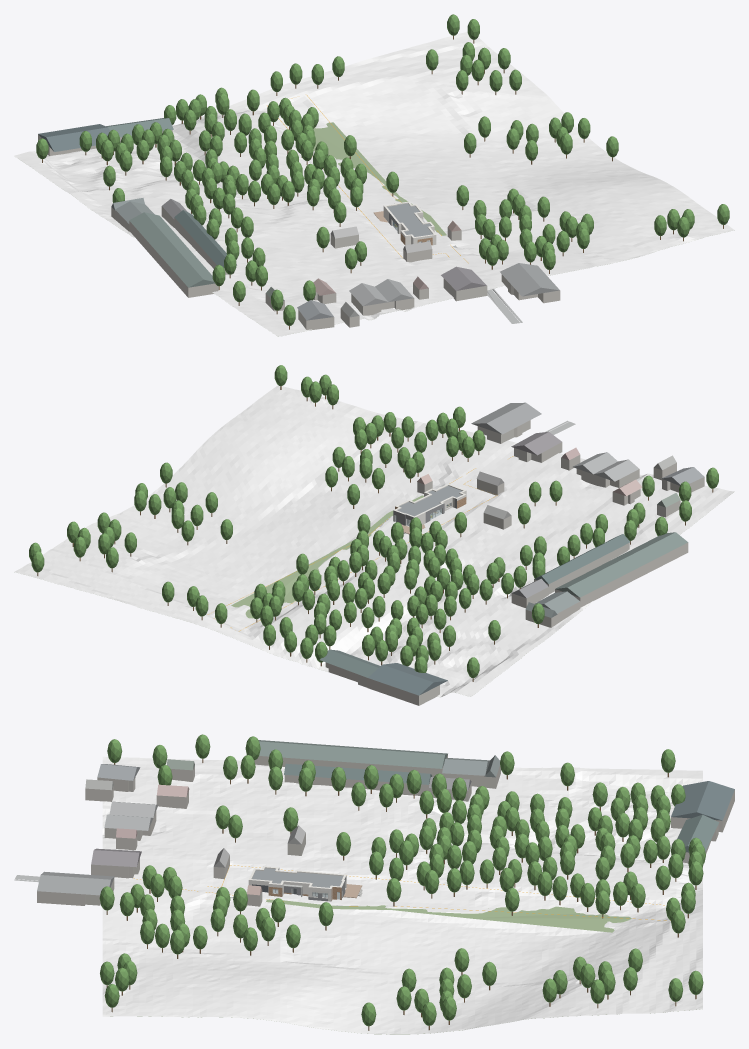
Rendered from dom_bryla.glb.
The picture shows the model from 3 angles, top to bottom: view 1: azimuth 30°, elevation 25°; view 2: azimuth 150°, elevation 25°; view 3: azimuth 270°, elevation 25°; orthographic projection. The views are drawn at different scales.
Parts seen in each view (by area): view 1: GEO_ORTHO_TEXTURED, GEO_DRZEWA_KORONY, GEO_BUDYNEK_DACH_010, TEREN_trawnik_PZT, GEO_BUDYNEK_DACH_014, GEO_BUDYNEK_DACH_018, GEO_BUDYNEK_DACH_005, GEO_BUDYNEK_SCIANY_010, DACH_wypelnienie_BEZ_SPADKOW, GEO_BUDYNEK_DACH_008, GEO_DRZEWA_PNIE, GEO_BUDYNEK_DACH_013 (+2 smaller); view 2: GEO_ORTHO_TEXTURED, GEO_DRZEWA_KORONY, GEO_BUDYNEK_DACH_010, GEO_BUDYNEK_DACH_018, GEO_BUDYNEK_SCIANY_010, GEO_BUDYNEK_DACH_014, TEREN_trawnik_PZT, GEO_BUDYNEK_DACH_005, GEO_BUDYNEK_DACH_015, GEO_BUDYNEK_SCIANY_018, DACH_wypelnienie_BEZ_SPADKOW, GEO_DRZEWA_PNIE (+4 smaller); view 3: GEO_ORTHO_TEXTURED, GEO_DRZEWA_KORONY, GEO_BUDYNEK_DACH_010, TEREN_trawnik_PZT, GEO_BUDYNEK_DACH_018, GEO_BUDYNEK_DACH_014, GEO_BUDYNEK_SCIANY_010, GEO_BUDYNEK_DACH_005, DACH_wypelnienie_BEZ_SPADKOW, GEO_BUDYNEK_DACH_015, GEO_DRZEWA_PNIE, GEO_BUDYNEK_DACH_008 (+8 smaller).
Part boxes in pixels (x1,y1,x2,y2): GEO_ORTHO_TEXTURED: [14, 31, 734, 336]; GEO_DRZEWA_KORONY: [36, 14, 729, 325]; GEO_BUDYNEK_DACH_010: [129, 212, 215, 287]; TEREN_trawnik_PZT: [313, 122, 446, 235]; GEO_BUDYNEK_DACH_014: [500, 263, 559, 296]; GEO_BUDYNEK_DACH_018: [38, 124, 109, 151]; GEO_BUDYNEK_DACH_005: [174, 210, 236, 267]; GEO_BUDYNEK_SCIANY_010: [129, 221, 218, 297]; DACH_wypelnienie_BEZ_SPADKOW: [387, 203, 432, 236]; GEO_BUDYNEK_DACH_008: [441, 266, 486, 290]; GEO_DRZEWA_PNIE: [42, 35, 723, 329]; GEO_BUDYNEK_DACH_013: [349, 283, 388, 306]; GEO_ORTHO_TEXTURED: [14, 385, 734, 697]; GEO_DRZEWA_KORONY: [29, 365, 718, 678]; GEO_BUDYNEK_DACH_010: [555, 532, 687, 597]; GEO_BUDYNEK_DACH_018: [368, 663, 447, 695]; GEO_BUDYNEK_SCIANY_010: [555, 542, 688, 607]; GEO_BUDYNEK_DACH_014: [471, 402, 541, 434]; TEREN_trawnik_PZT: [231, 495, 423, 618]; GEO_BUDYNEK_DACH_005: [534, 534, 630, 584]; GEO_BUDYNEK_DACH_015: [320, 649, 380, 677]; GEO_BUDYNEK_SCIANY_018: [367, 678, 439, 705]; DACH_wypelnienie_BEZ_SPADKOW: [397, 486, 462, 516]; GEO_DRZEWA_PNIE: [37, 386, 713, 681]; GEO_ORTHO_TEXTURED: [102, 756, 702, 1034]; GEO_DRZEWA_KORONY: [99, 734, 705, 1026]; GEO_BUDYNEK_DACH_010: [258, 740, 447, 768]; TEREN_trawnik_PZT: [266, 899, 631, 932]; GEO_BUDYNEK_DACH_018: [671, 781, 734, 820]; GEO_BUDYNEK_DACH_014: [37, 871, 114, 895]; GEO_BUDYNEK_SCIANY_010: [254, 755, 447, 776]; GEO_BUDYNEK_DACH_005: [284, 763, 431, 784]; DACH_wypelnienie_BEZ_SPADKOW: [252, 868, 343, 887]; GEO_BUDYNEK_DACH_015: [677, 814, 718, 852]; GEO_DRZEWA_PNIE: [106, 759, 696, 1030]; GEO_BUDYNEK_DACH_008: [91, 848, 141, 867].
Size of the model in its own units: 188 by 18.02 by 215.
